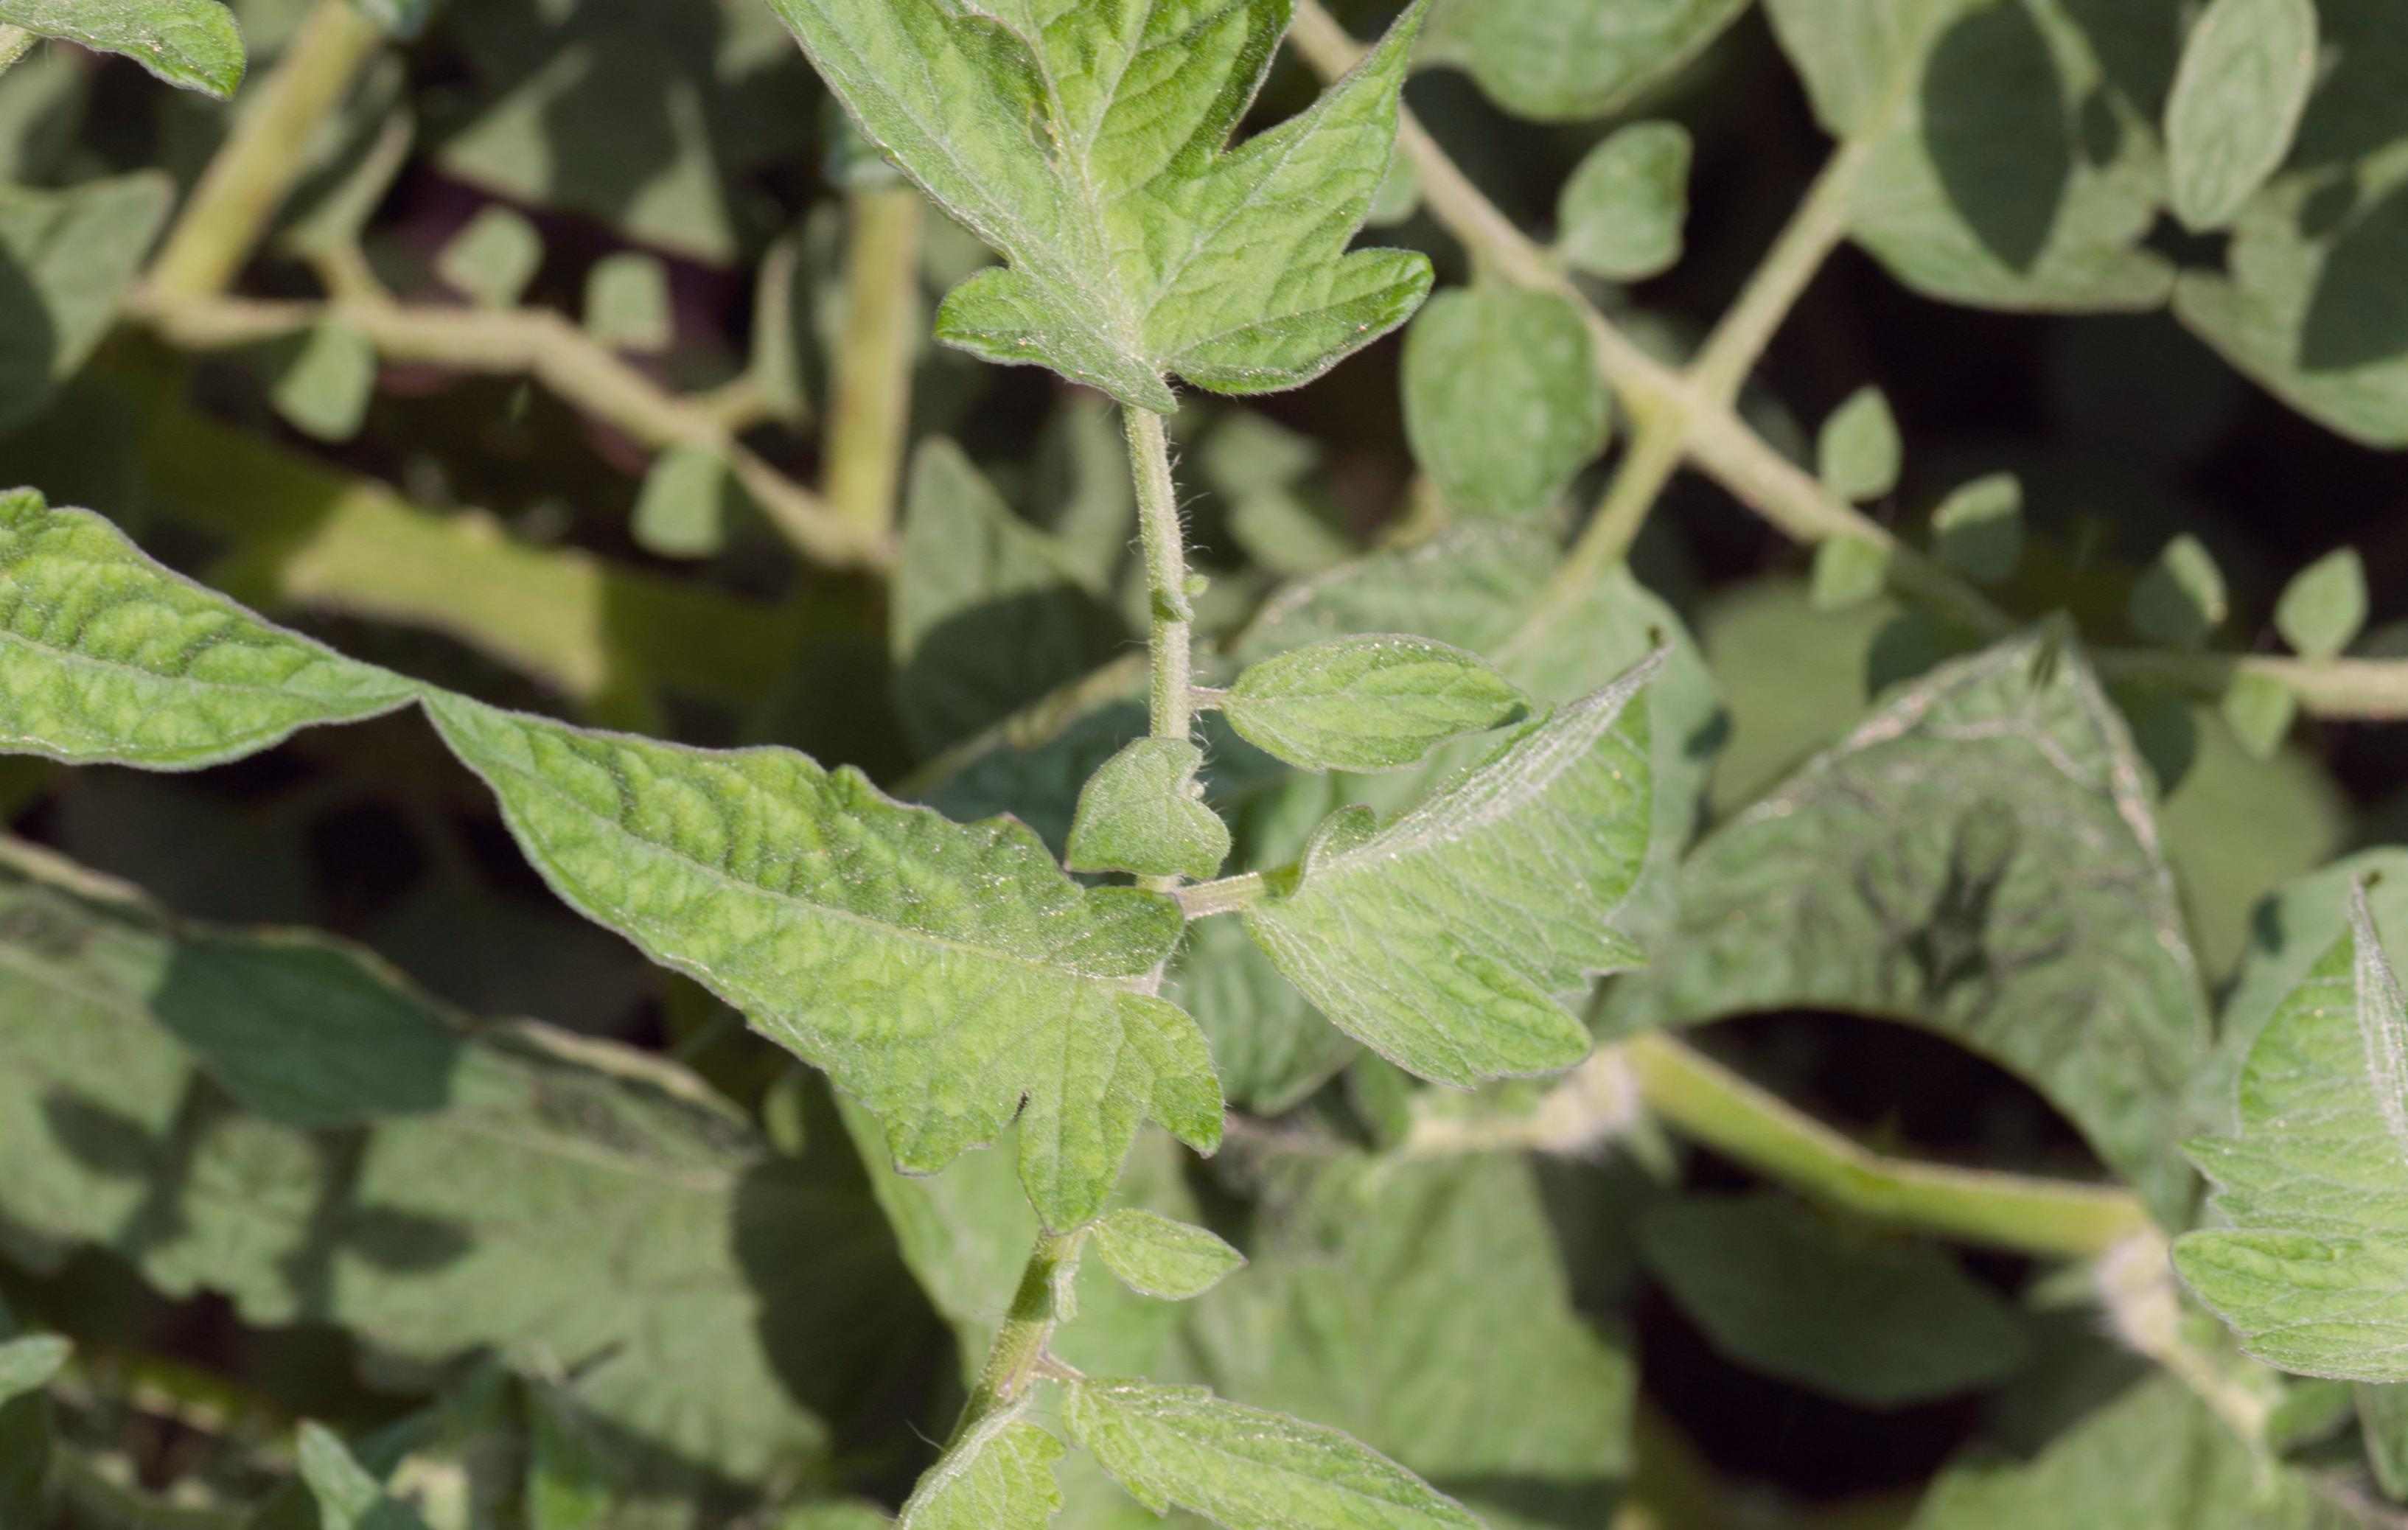Tomato leaf: (305, 628, 1325, 1330), (516, 0, 1580, 656), (1113, 497, 1815, 1190), (118, 1346, 1043, 1530)
